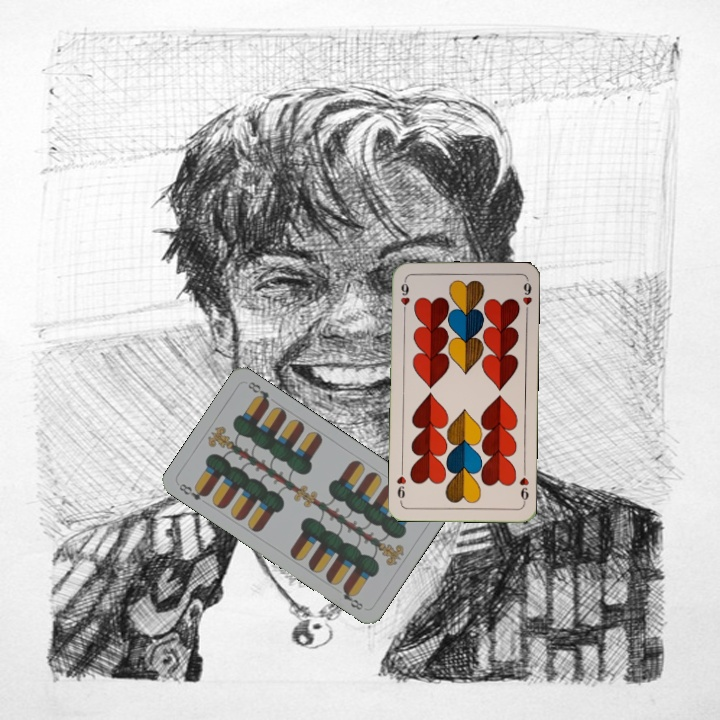E8: (175, 479, 211, 503)
H9: (516, 466, 531, 506), (397, 276, 412, 316)
